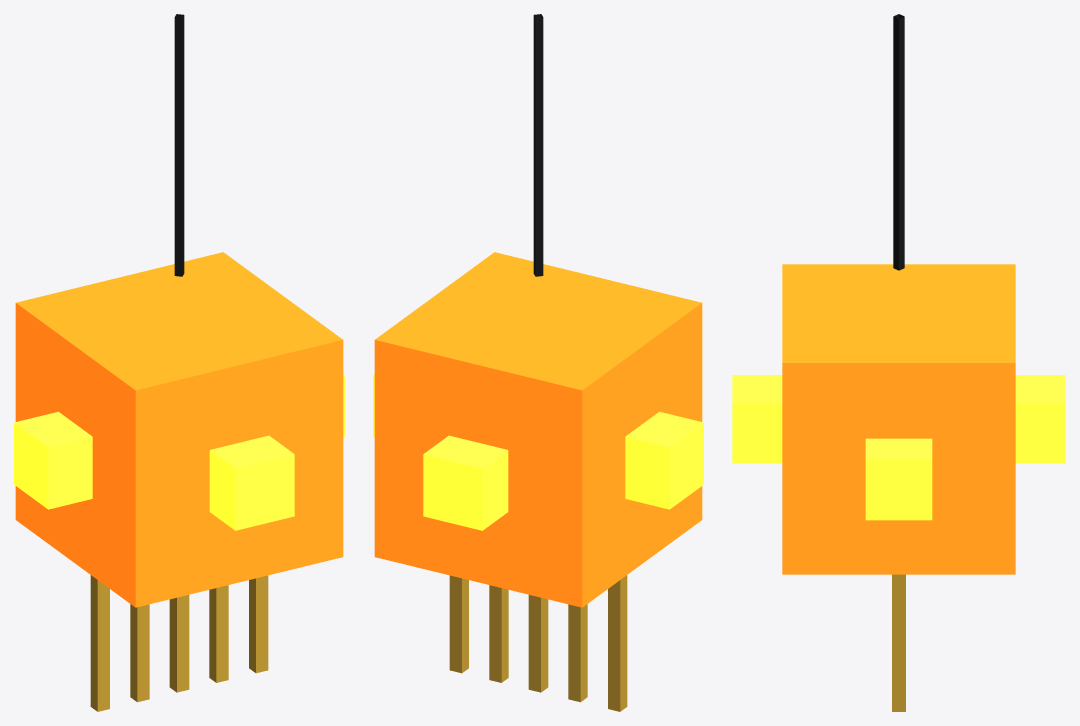
File: lantern.glb
The picture shows the model from 3 angles, left to right: view 1: azimuth 30°, elevation 25°; view 2: azimuth 150°, elevation 25°; view 3: azimuth 270°, elevation 25°; orthographic projection. The views are drawn at different scales.
Parts seen in each view (by area): view 1: lantern_1, lantern_2, lantern_0, lantern_3, lantern_5, lantern_4, lantern_7, lantern_6; view 2: lantern_1, lantern_2, lantern_0, lantern_3, lantern_5, lantern_4, lantern_7, lantern_6; view 3: lantern_1, lantern_2, lantern_0, lantern_7.
Boxes of the visible parts, x1,y1,x2,y2 form: lantern_1: (15, 252, 343, 607); lantern_2: (14, 374, 344, 530); lantern_0: (174, 14, 184, 276); lantern_3: (90, 575, 109, 711); lantern_5: (169, 595, 189, 692); lantern_4: (130, 604, 149, 702); lantern_7: (249, 575, 268, 673); lantern_6: (209, 585, 228, 682); lantern_1: (374, 252, 702, 607); lantern_2: (373, 374, 703, 530); lantern_0: (533, 14, 543, 276); lantern_3: (608, 575, 627, 711); lantern_5: (528, 595, 548, 692); lantern_4: (568, 604, 587, 702); lantern_7: (449, 575, 468, 673); lantern_6: (489, 585, 508, 682); lantern_1: (782, 264, 1015, 574); lantern_2: (732, 375, 1065, 520); lantern_0: (893, 14, 904, 270); lantern_7: (892, 574, 905, 711).
Bounding box in the file's own units: 0.6 × 1.3 × 0.6.
Materials: 4 (4 with a texture image).
